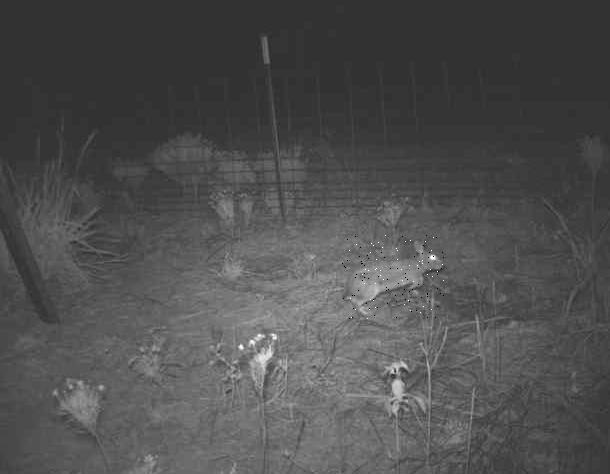Rabbit: (341, 235, 444, 319)
